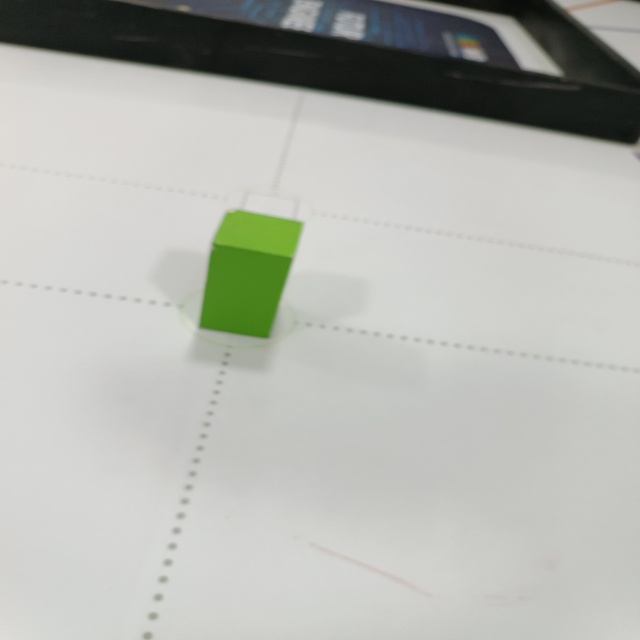green rectangular prism: (193, 207, 310, 343)
